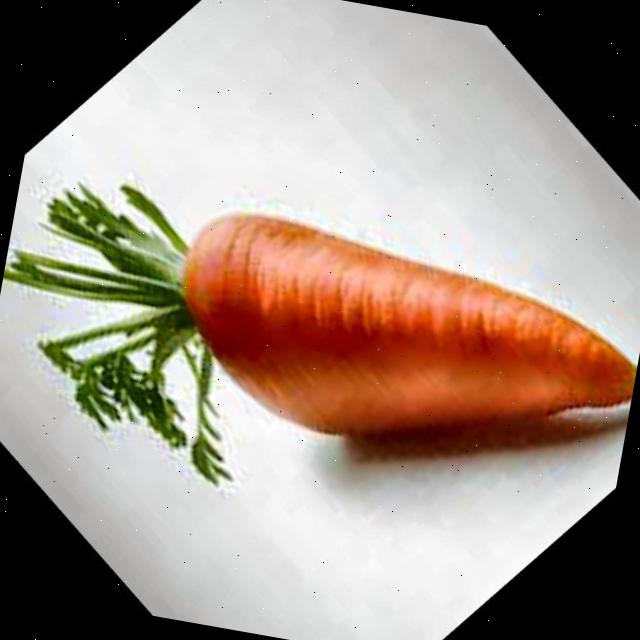carrot: (3, 184, 636, 483)
